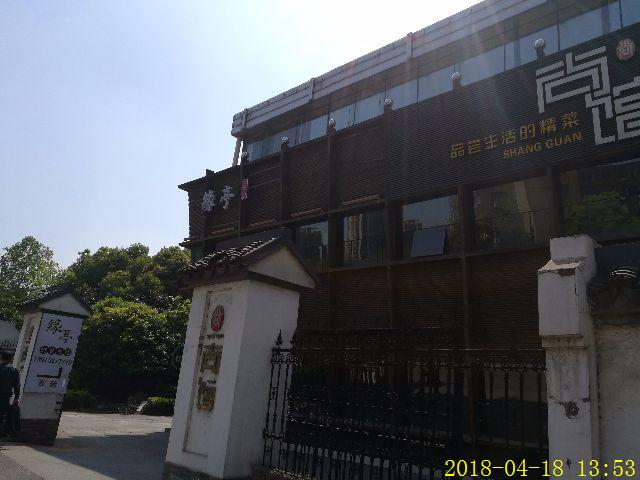multi_signs: (181, 27, 639, 228), (183, 287, 237, 433), (21, 309, 84, 404)
